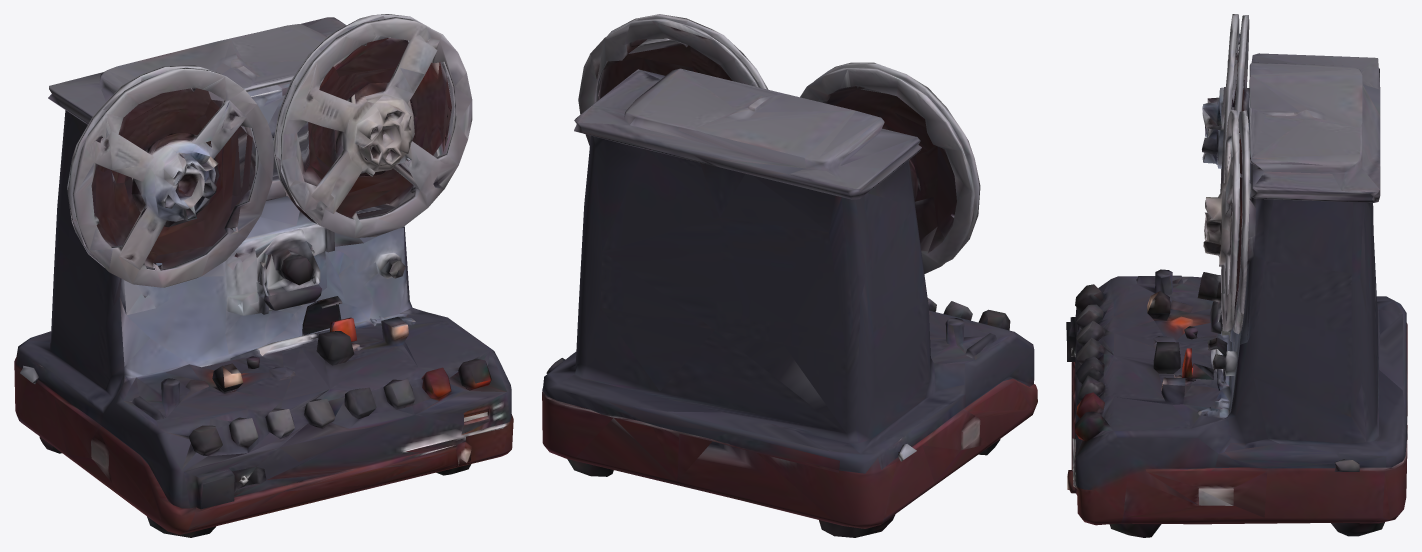
The model's file is tape_reel.glb.
3 renders of one model, left to right at view 1: azimuth 30°, elevation 25°; view 2: azimuth 150°, elevation 25°; view 3: azimuth 270°, elevation 25°, orthographic. The views are drawn at different scales.
Visible parts, largest first — view 1: Mesh; view 2: Mesh; view 3: Mesh.
Part boxes in pixels (x1,y1,x2,y2): Mesh: [14, 14, 513, 537]; Mesh: [542, 14, 1037, 537]; Mesh: [1066, 14, 1407, 537].
Size of the model in its own units: 0.98 by 0.9636 by 0.7535.
1 material, 1 textured.
